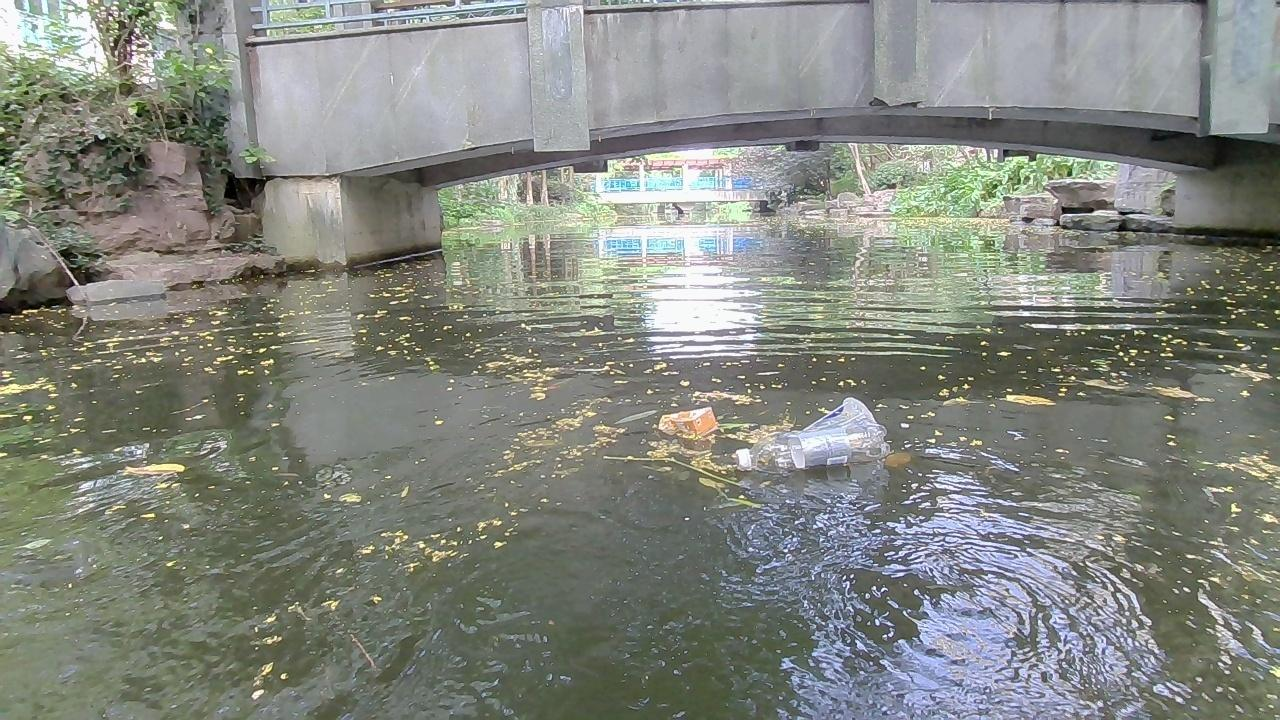bottle: (730, 427, 893, 478), (789, 396, 884, 435), (654, 408, 721, 439)
